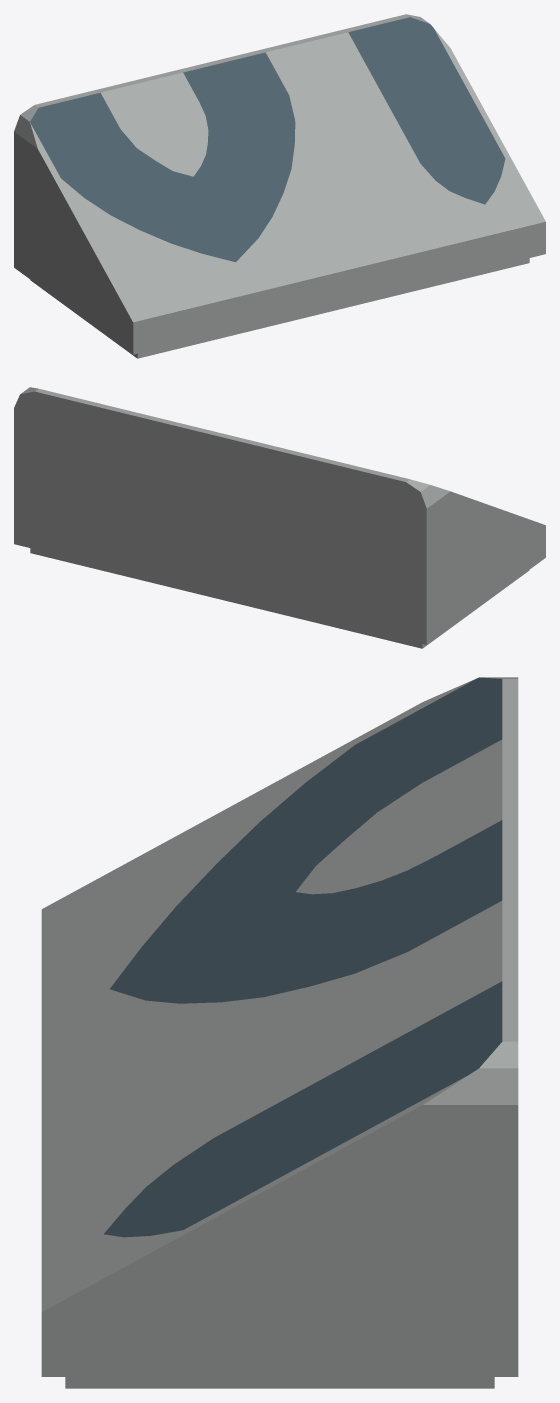
3 renders of one model, top to bottom at view 1: azimuth 30°, elevation 25°; view 2: azimuth 150°, elevation 25°; view 3: azimuth 270°, elevation 25°, orthographic. The views are drawn at different scales.
Visible parts, largest first — view 1: world; view 2: world; view 3: world.
Part boxes in pixels (x1,y1,x2,y2): world: (14,14,545,358); world: (14,387,545,648); world: (41,677,518,1388).
Bounding box in the file's own units: 0.016 × 0.00624 × 0.008.
